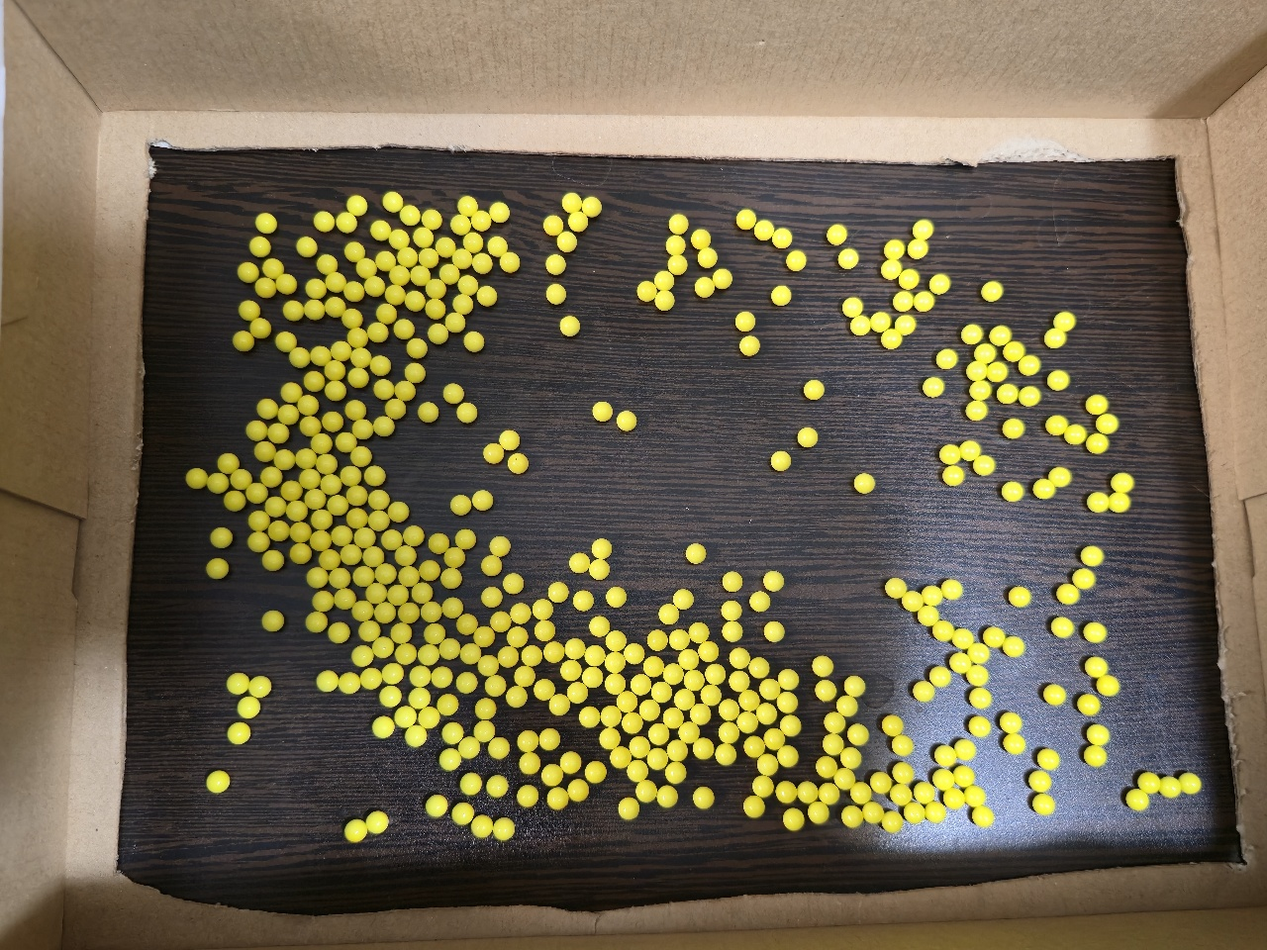yellow_bead: (1131, 794, 1144, 807), (350, 824, 362, 837), (212, 776, 225, 788), (1059, 317, 1071, 330), (898, 767, 909, 781), (371, 816, 383, 828), (977, 810, 989, 822), (895, 789, 907, 801), (1034, 776, 1046, 788), (939, 750, 951, 762), (232, 678, 244, 690), (887, 815, 898, 828), (1037, 799, 1050, 810), (1089, 750, 1102, 761), (463, 741, 474, 754), (1089, 627, 1102, 638), (1056, 622, 1069, 633), (1062, 589, 1075, 600), (978, 460, 991, 471), (1052, 375, 1065, 386), (498, 823, 509, 835), (476, 821, 488, 832), (522, 790, 533, 802), (855, 788, 867, 799), (919, 787, 930, 799), (492, 781, 503, 793), (1185, 778, 1197, 789), (1143, 778, 1155, 789), (465, 778, 476, 790), (937, 774, 949, 785), (762, 759, 773, 771), (1042, 754, 1054, 765), (444, 753, 455, 765), (845, 752, 856, 764), (960, 744, 971, 756), (897, 740, 909, 751), (1009, 738, 1021, 749), (411, 730, 422, 742), (1092, 729, 1104, 740), (447, 727, 458, 739), (233, 727, 244, 739), (974, 721, 986, 732), (378, 721, 389, 733), (1005, 717, 1017, 728), (679, 694, 690, 706), (975, 693, 987, 704), (511, 691, 522, 703), (1049, 690, 1061, 701), (254, 681, 265, 693), (343, 678, 355, 689), (365, 673, 377, 684), (934, 671, 946, 682), (972, 670, 983, 682), (357, 650, 368, 662), (1008, 641, 1020, 652), (957, 633, 969, 644), (989, 631, 1000, 643), (1092, 497, 1104, 508), (941, 353, 953, 364), (900, 320, 912, 331), (1090, 662, 1103, 672), (1086, 551, 1099, 561), (1007, 487, 1020, 497), (1038, 484, 1051, 494), (1054, 472, 1067, 482), (1023, 391, 1036, 401), (979, 348, 992, 358), (457, 808, 468, 819), (909, 807, 920, 818), (853, 729, 864, 740), (653, 729, 664, 740), (785, 720, 796, 731), (829, 717, 840, 728), (424, 712, 435, 723), (841, 701, 852, 712), (414, 693, 425, 704), (656, 687, 667, 698), (764, 684, 775, 695), (849, 681, 860, 692), (635, 679, 646, 690), (322, 676, 333, 687), (587, 672, 598, 683), (415, 671, 426, 682), (710, 669, 721, 680), (668, 669, 679, 680), (387, 668, 398, 679), (565, 665, 576, 676), (683, 654, 694, 665), (423, 649, 434, 660), (377, 642, 388, 653), (938, 625, 949, 636), (426, 607, 437, 618), (908, 596, 919, 607), (678, 594, 689, 605), (1015, 592, 1026, 603), (946, 584, 957, 595), (345, 549, 356, 560), (386, 534, 397, 545), (359, 532, 370, 543), (944, 449, 955, 460), (965, 445, 976, 456), (847, 302, 858, 313), (934, 278, 945, 289), (886, 263, 897, 274), (913, 242, 924, 253), (405, 210, 416, 221), (788, 813, 798, 825), (698, 792, 708, 804), (662, 791, 672, 803), (839, 773, 849, 785), (546, 769, 556, 781), (670, 767, 680, 779), (565, 757, 575, 769), (782, 750, 792, 762), (721, 748, 731, 760), (828, 738, 838, 750), (479, 725, 489, 737), (887, 721, 899, 731), (400, 712, 412, 722), (782, 697, 792, 709), (954, 658, 966, 668), (890, 583, 902, 593), (971, 406, 983, 416), (975, 386, 987, 396), (1023, 360, 1035, 370), (918, 225, 928, 237), (1116, 478, 1129, 487), (1101, 419, 1114, 428), (431, 800, 441, 811), (552, 793, 562, 804), (1166, 782, 1176, 793), (959, 771, 969, 782), (525, 758, 535, 769), (672, 745, 682, 756), (493, 743, 504, 753), (523, 736, 533, 747), (544, 734, 554, 745), (584, 712, 595, 722), (606, 711, 616, 722), (761, 709, 772, 719), (695, 709, 706, 719), (244, 702, 254, 713), (554, 700, 564, 711), (622, 697, 632, 708), (706, 690, 716, 701), (821, 685, 831, 696), (538, 685, 549, 695), (490, 681, 500, 692), (461, 677, 471, 688), (734, 676, 744, 687), (783, 675, 794, 685), (520, 671, 530, 682), (818, 661, 828, 672), (610, 657, 620, 668), (734, 653, 744, 664), (503, 651, 513, 662), (590, 650, 600, 661), (629, 648, 639, 659), (465, 648, 475, 659), (570, 643, 580, 654), (444, 643, 454, 654), (674, 634, 684, 645), (694, 627, 704, 638), (334, 627, 344, 638), (364, 625, 374, 636), (267, 616, 278, 626), (923, 611, 934, 621), (357, 606, 367, 617), (447, 603, 457, 614), (754, 597, 765, 607), (371, 588, 381, 599), (768, 576, 779, 586), (312, 572, 322, 583), (358, 571, 368, 582), (380, 569, 391, 579), (574, 558, 585, 568), (368, 551, 378, 562), (597, 543, 607, 554), (455, 500, 466, 510), (369, 471, 380, 481), (1070, 429, 1081, 439), (1002, 389, 1013, 399), (971, 366, 982, 376), (876, 317, 886, 328), (919, 296, 929, 307), (898, 296, 908, 307), (904, 274, 915, 284), (831, 229, 842, 239), (261, 218, 271, 229), (319, 217, 330, 227), (352, 200, 362, 211), (846, 810, 855, 822), (825, 788, 834, 800), (640, 786, 649, 798), (875, 777, 884, 789), (633, 765, 642, 777), (652, 753, 661, 765), (1078, 574, 1090, 583), (1008, 424, 1020, 433), (1091, 400, 1103, 409), (1009, 346, 1021, 355), (995, 331, 1007, 340), (966, 330, 978, 339), (624, 804, 634, 814), (724, 705, 734, 715), (644, 705, 654, 715), (744, 697, 754, 707), (919, 687, 929, 697), (689, 676, 699, 686), (483, 661, 493, 671), (400, 649, 410, 659), (611, 636, 621, 646), (652, 635, 662, 645), (512, 632, 522, 642), (396, 628, 406, 638), (769, 627, 779, 637), (594, 621, 604, 631), (311, 617, 321, 627), (664, 609, 674, 619), (379, 608, 389, 618), (537, 605, 547, 615), (318, 597, 328, 607), (578, 596, 588, 606), (486, 593, 496, 603), (611, 592, 621, 602), (927, 591, 937, 601), (393, 590, 403, 600), (417, 588, 427, 598), (486, 560, 496, 570), (400, 551, 410, 561), (460, 534, 470, 544), (393, 507, 403, 517), (270, 502, 280, 512), (326, 480, 336, 490), (776, 456, 786, 466), (356, 451, 366, 461), (803, 432, 813, 442), (273, 428, 283, 438), (390, 404, 400, 414), (412, 343, 422, 353), (855, 321, 865, 331), (659, 276, 669, 286), (477, 258, 487, 268), (792, 255, 802, 265), (457, 254, 467, 264), (302, 241, 312, 251), (759, 225, 769, 235), (455, 220, 465, 230), (341, 218, 351, 228), (476, 216, 486, 226), (741, 214, 751, 224), (567, 198, 577, 208), (388, 197, 398, 207), (803, 787, 812, 798), (698, 743, 707, 754), (684, 727, 693, 738), (627, 717, 636, 728), (668, 712, 677, 723), (442, 700, 451, 711), (385, 691, 396, 700), (437, 672, 446, 683), (430, 628, 439, 639), (409, 530, 418, 541), (373, 516, 384, 525), (477, 496, 488, 505), (310, 494, 319, 505), (859, 479, 870, 488), (236, 474, 245, 485), (809, 385, 820, 394), (994, 366, 1003, 377), (886, 334, 897, 343), (565, 321, 574, 332), (671, 240, 680, 251), (674, 219, 683, 230), (757, 781, 765, 793), (1051, 421, 1063, 429), (931, 809, 941, 818), (813, 808, 822, 818), (480, 704, 489, 714), (527, 651, 536, 661), (548, 647, 557, 657), (728, 626, 737, 636), (516, 609, 526, 618), (727, 606, 736, 616), (508, 579, 518, 588), (728, 577, 737, 587), (446, 573, 455, 583), (335, 573, 344, 583), (213, 564, 223, 573), (268, 555, 278, 564), (691, 549, 701, 558), (337, 530, 346, 540), (333, 501, 342, 511), (374, 495, 383, 505), (351, 491, 361, 500), (345, 471, 355, 480), (323, 459, 332, 469), (316, 438, 325, 448), (341, 437, 350, 447), (505, 435, 514, 445), (357, 425, 367, 434), (622, 416, 631, 426), (283, 410, 293, 419), (462, 408, 471, 418), (262, 404, 271, 414), (448, 389, 458, 398), (286, 388, 295, 398), (379, 384, 388, 394), (410, 368, 420, 377), (375, 361, 385, 370), (744, 341, 754, 350), (469, 336, 478, 346), (450, 318, 459, 328), (740, 317, 750, 326), (288, 306, 298, 315), (458, 299, 467, 309), (410, 296, 419, 306), (660, 295, 669, 305), (776, 291, 786, 300), (482, 291, 492, 300), (551, 289, 560, 299), (642, 286, 651, 296), (700, 282, 709, 292), (369, 281, 379, 290), (331, 277, 340, 287), (444, 269, 453, 279), (361, 263, 371, 272), (673, 259, 682, 269), (551, 259, 560, 269), (323, 259, 332, 269), (505, 257, 515, 266), (380, 256, 390, 265), (703, 252, 712, 262), (440, 242, 450, 251), (493, 241, 502, 251), (255, 241, 264, 251), (394, 235, 404, 244), (777, 233, 787, 242), (419, 233, 429, 242), (376, 226, 385, 236), (573, 217, 583, 226), (427, 215, 437, 224), (495, 207, 504, 217), (587, 202, 597, 211), (972, 791, 980, 802), (821, 761, 828, 773), (553, 588, 562, 597), (404, 572, 413, 581), (495, 541, 504, 550), (317, 515, 326, 524), (213, 478, 222, 487), (301, 454, 310, 463), (489, 448, 498, 457), (251, 426, 260, 435), (424, 408, 433, 417), (598, 407, 607, 416), (303, 401, 312, 410), (331, 386, 340, 395), (295, 352, 304, 361), (281, 337, 290, 346), (309, 305, 318, 314), (331, 302, 340, 311), (311, 284, 320, 293), (463, 280, 472, 289), (718, 274, 727, 283), (416, 271, 425, 280), (268, 263, 277, 272), (424, 253, 433, 262), (562, 237, 571, 246), (463, 201, 472, 210), (704, 647, 712, 657), (479, 631, 487, 641), (539, 625, 547, 635), (463, 619, 471, 629), (495, 618, 505, 626), (404, 608, 414, 616), (340, 594, 348, 604), (217, 532, 225, 542), (1115, 498, 1123, 508), (379, 422, 389, 430), (356, 353, 366, 361), (696, 235, 706, 243), (868, 807, 875, 818), (573, 785, 580, 796), (590, 767, 597, 778), (769, 733, 776, 744), (605, 733, 612, 744), (724, 727, 731, 738), (746, 716, 752, 728), (253, 537, 262, 545), (254, 516, 263, 524), (279, 455, 288, 463), (305, 422, 314, 430), (351, 406, 360, 414), (434, 329, 442, 338), (373, 328, 382, 336), (399, 325, 408, 333), (244, 306, 253, 314), (431, 304, 439, 313), (431, 284, 439, 293), (281, 279, 290, 287), (403, 252, 412, 260), (889, 244, 895, 256), (468, 237, 477, 245), (548, 221, 557, 229), (648, 662, 655, 672), (1092, 438, 1102, 445), (400, 386, 410, 393), (353, 373, 363, 380), (349, 247, 359, 254), (749, 801, 755, 812), (638, 742, 644, 753), (576, 688, 582, 699), (1107, 683, 1115, 691), (316, 351, 324, 359), (349, 287, 357, 295), (749, 741, 756, 750), (293, 506, 300, 515), (244, 267, 251, 276), (758, 663, 764, 673), (598, 564, 604, 574), (252, 488, 262, 494), (927, 382, 933, 392), (395, 271, 405, 277), (843, 254, 849, 264), (615, 754, 622, 762), (973, 648, 981, 655), (267, 472, 275, 479), (260, 446, 267, 454), (337, 346, 345, 353), (347, 314, 355, 321), (449, 552, 458, 558), (513, 462, 522, 468), (1049, 333, 1055, 342), (948, 471, 953, 481), (987, 287, 992, 297), (434, 538, 441, 545), (192, 473, 199, 480), (325, 557, 333, 563), (306, 474, 314, 480), (330, 366, 338, 372), (382, 309, 390, 315), (224, 458, 233, 463), (391, 290, 400, 295), (1085, 703, 1096, 707), (275, 525, 282, 531), (329, 417, 336, 423), (354, 333, 361, 339), (428, 566, 434, 572), (298, 548, 303, 555), (233, 496, 240, 501), (256, 324, 263, 329), (260, 283, 268, 287), (318, 535, 323, 541), (354, 514, 359, 520), (310, 377, 316, 382), (614, 679, 619, 684), (239, 336, 244, 341), (296, 528, 302, 532), (783, 786, 787, 790), (290, 486, 294, 490), (953, 798, 956, 800), (615, 687, 617, 690), (1057, 331, 1060, 333), (976, 657, 978, 659)
